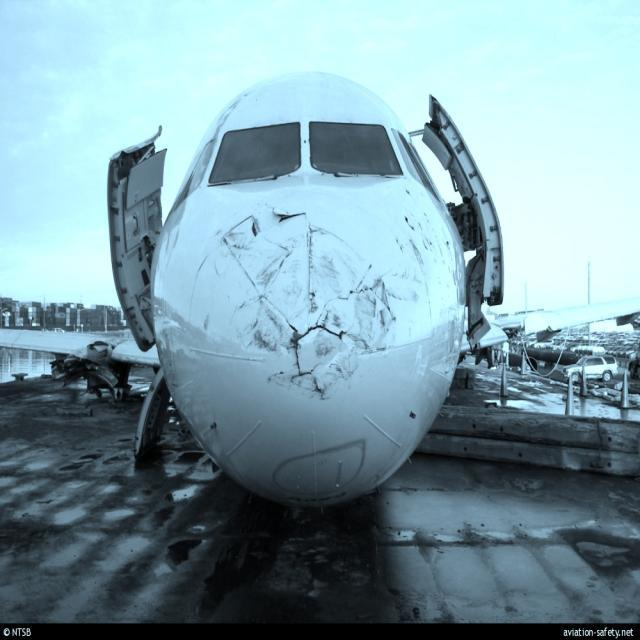crack: (193, 206, 395, 408)
